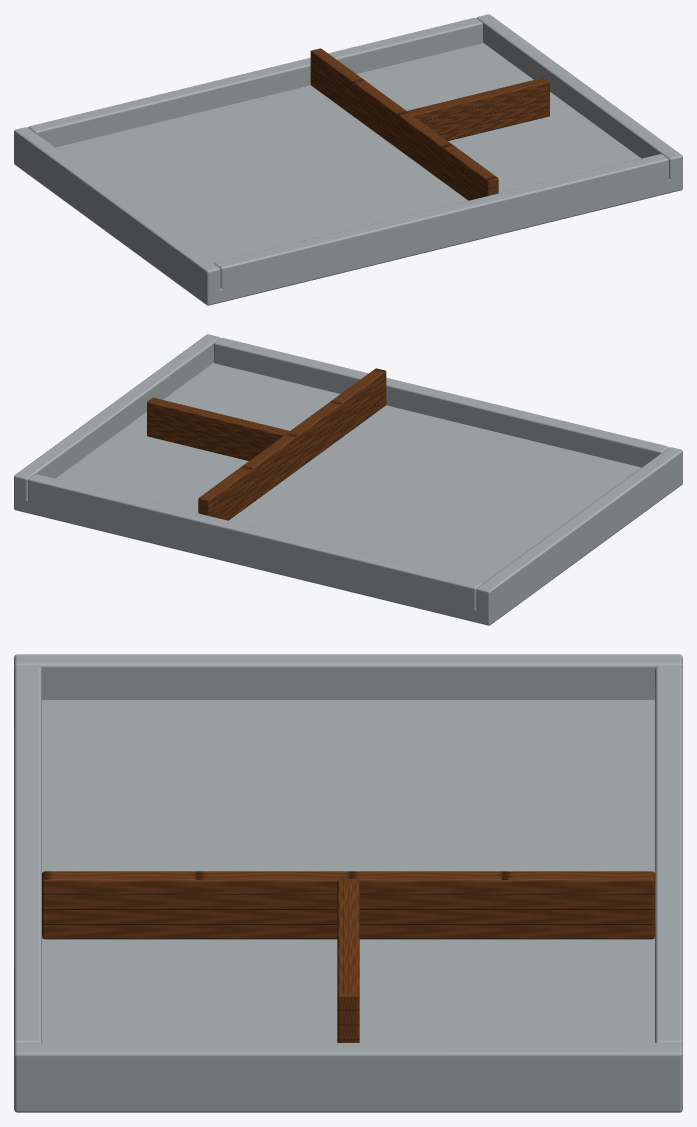
File: salvage-and-repair-workshop-teardown-tray-18907d0e__25437.glb
3 views of the same model, one above another, from view 1: azimuth 30°, elevation 25°; view 2: azimuth 150°, elevation 25°; view 3: azimuth 270°, elevation 25° (orthographic). The views are drawn at different scales.
Parts seen in each view (by area): view 1: teardown-tray; view 2: teardown-tray; view 3: teardown-tray.
Part boxes in pixels (box(x1,y1,x2,y2)): teardown-tray: box(14, 14, 682, 305); teardown-tray: box(14, 334, 682, 625); teardown-tray: box(14, 654, 682, 1112).
Size of the model in its own units: 0.85 by 0.085 by 0.6.
2 materials, 1 textured.
